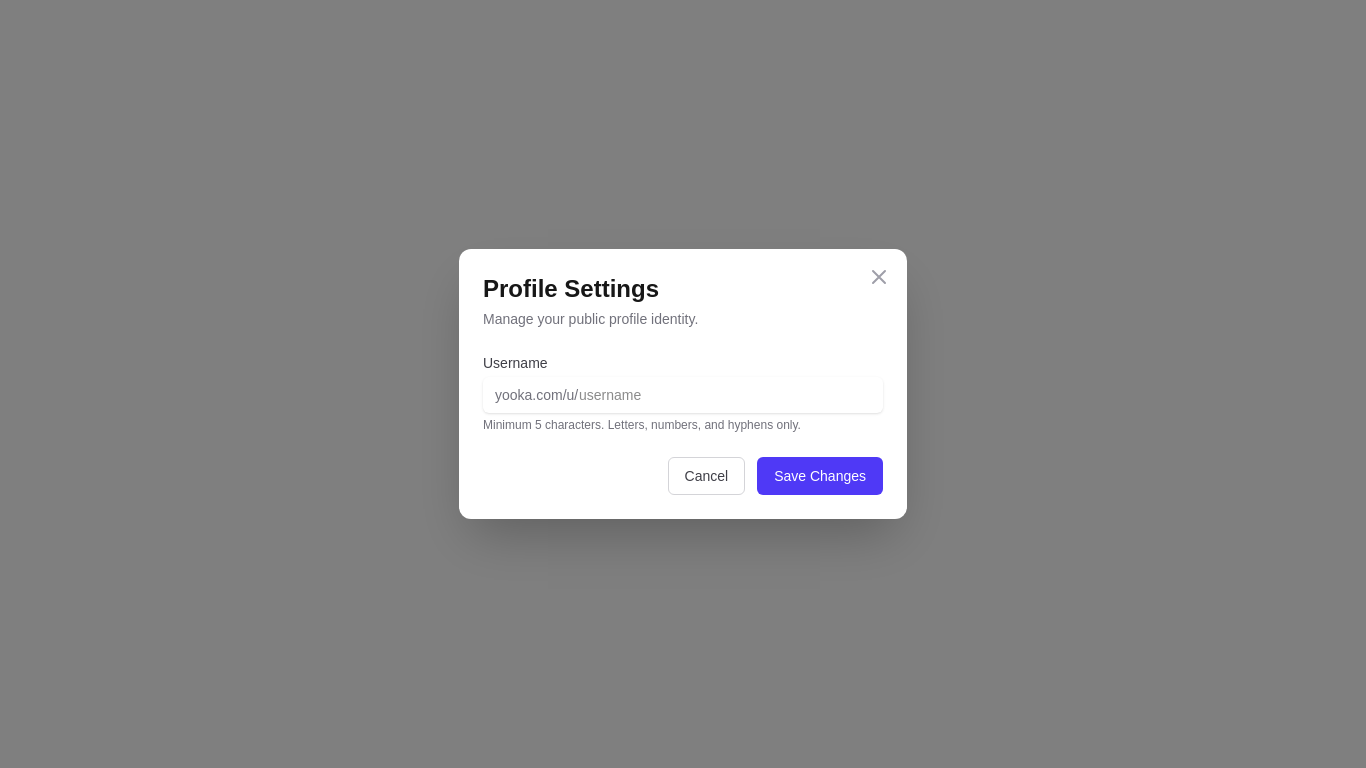
Test case: ProfileModal › should display error on failure
Type "new-username" into the field labelled "Username".
click(683, 395); type("new-username")  # box [483,377,883,413]
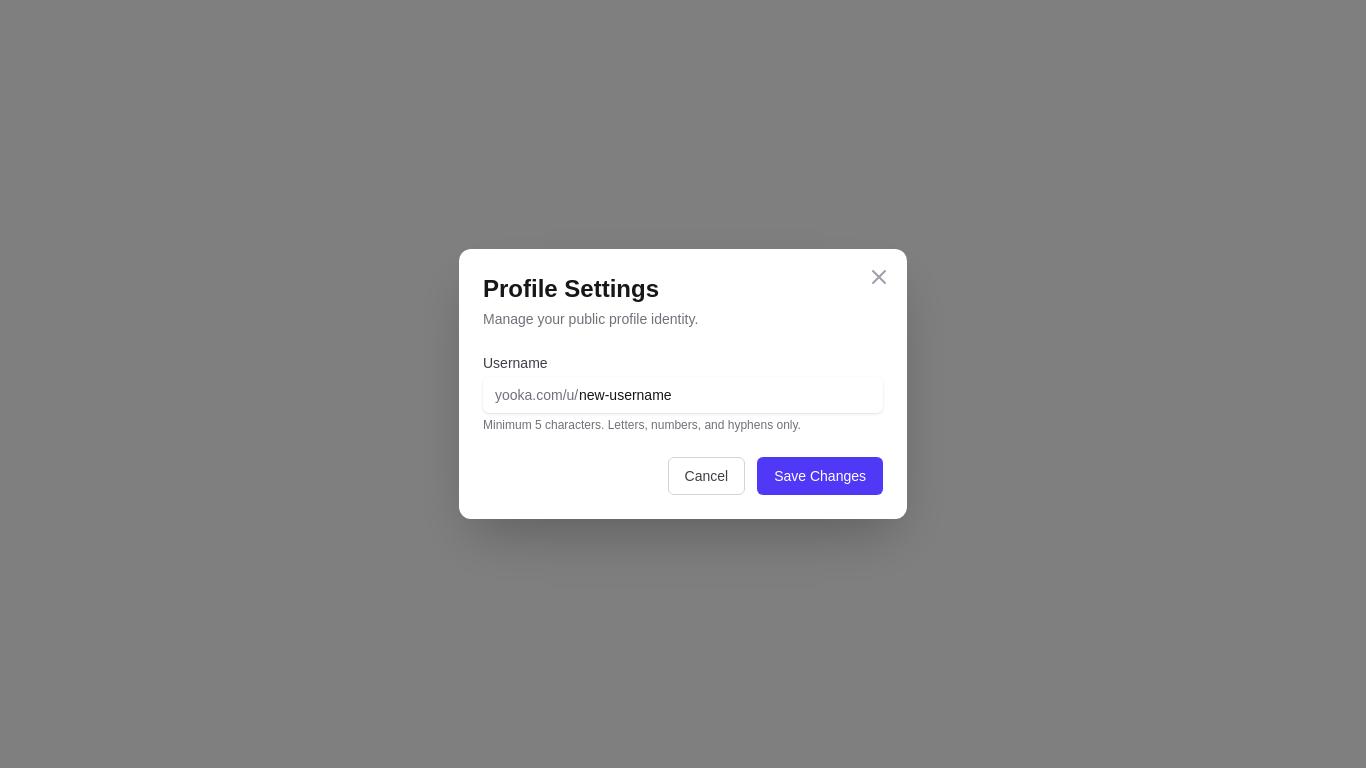
Click the button "Save Changes".
click(820, 476)  # box [757,457,883,495]
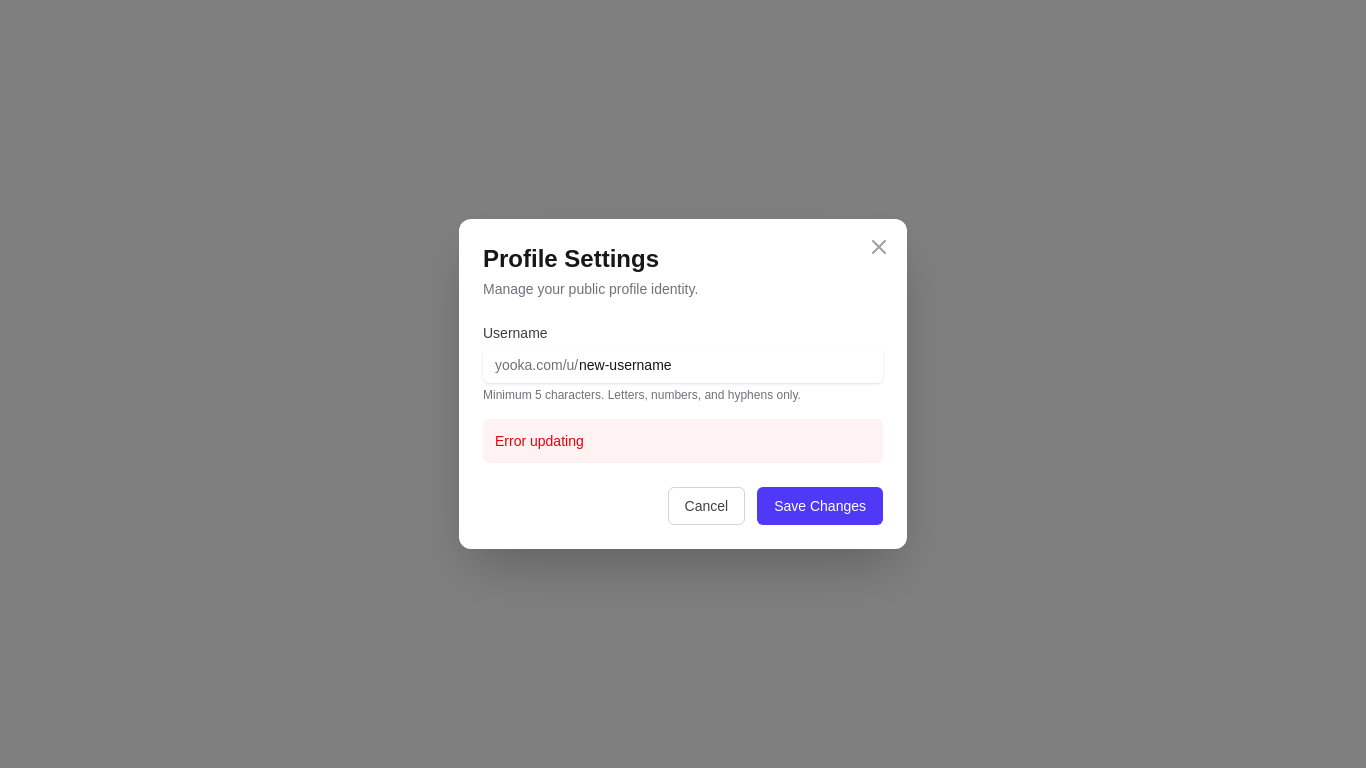
Now the text "Error updating" is shown, box [483,419,883,463]
